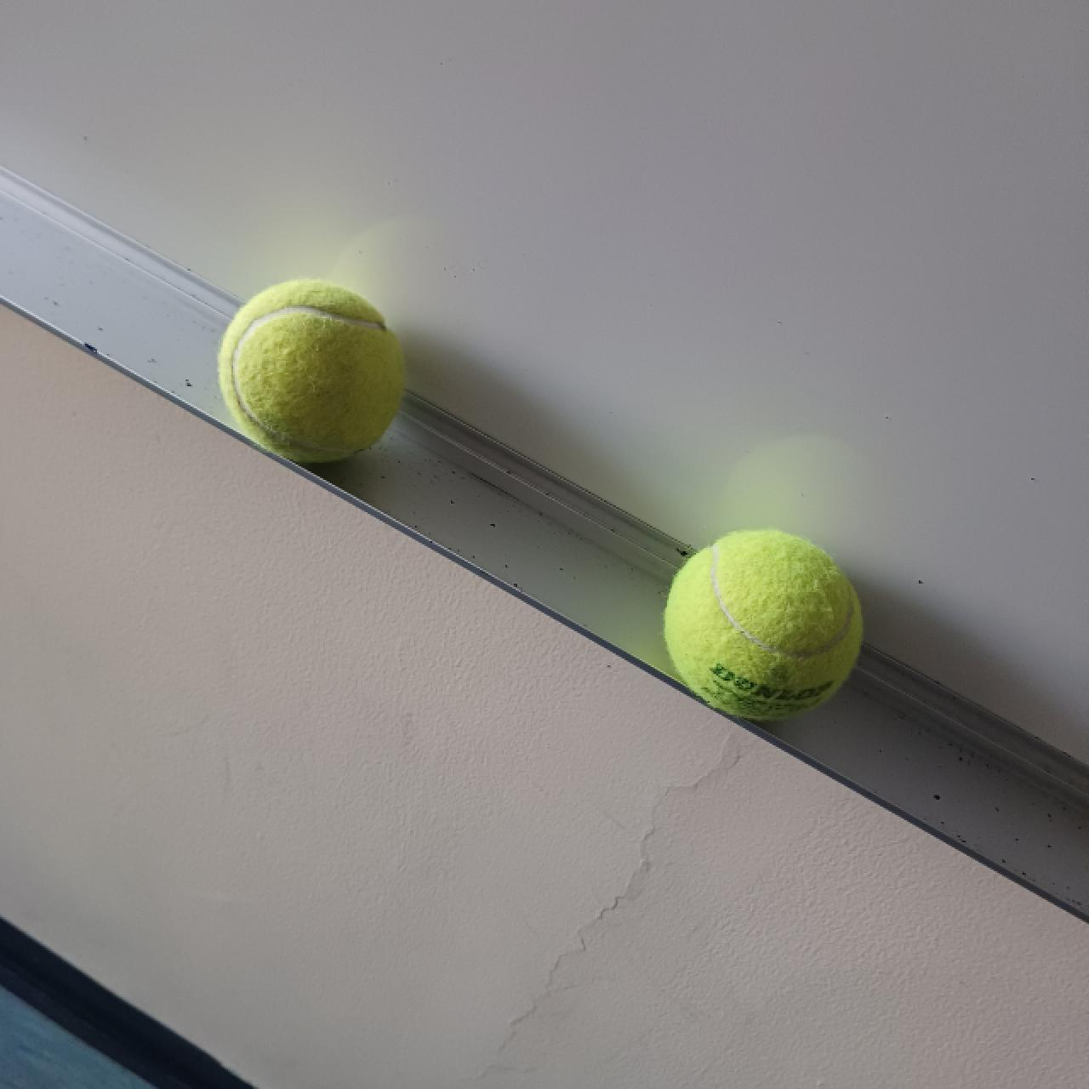tennis-ball: (665, 529, 865, 721), (220, 279, 408, 466)
